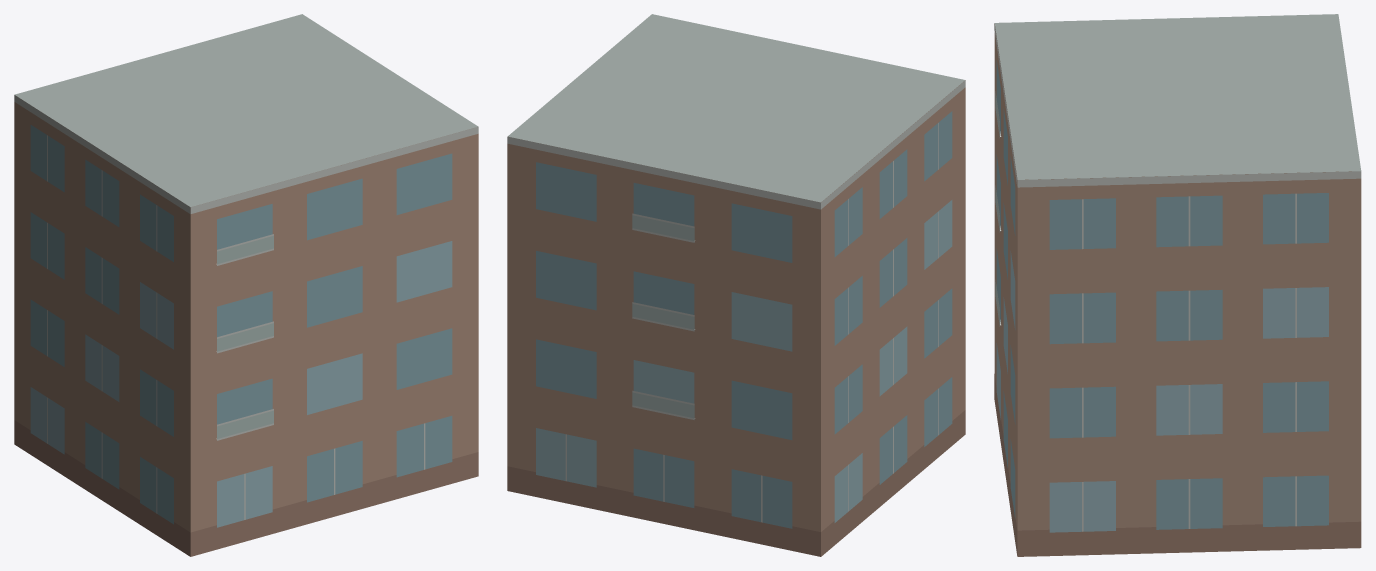
Rendered from survey-upis-33024506.glb.
3 renders of one model, left to right at view 1: azimuth 30°, elevation 25°; view 2: azimuth 150°, elevation 25°; view 3: azimuth 270°, elevation 25°, orthographic. The views are drawn at different scales.
Visible parts, largest first — view 1: survey-upis-33024506.tmp; view 2: survey-upis-33024506.tmp; view 3: survey-upis-33024506.tmp.
Boxes of the visible parts, x1,y1,x2,y2 form: survey-upis-33024506.tmp: [14, 14, 478, 556]; survey-upis-33024506.tmp: [507, 14, 965, 556]; survey-upis-33024506.tmp: [994, 14, 1361, 556].
Bounding box in the file's own units: 11.48 × 12.15 × 10.72.
